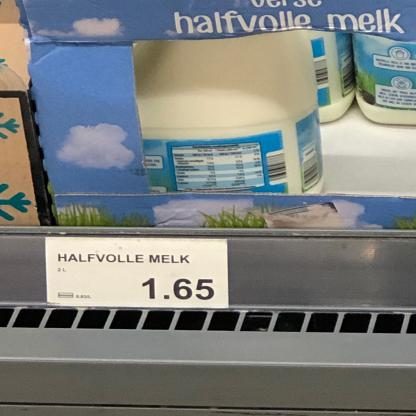prtg: (46, 238, 230, 310)
